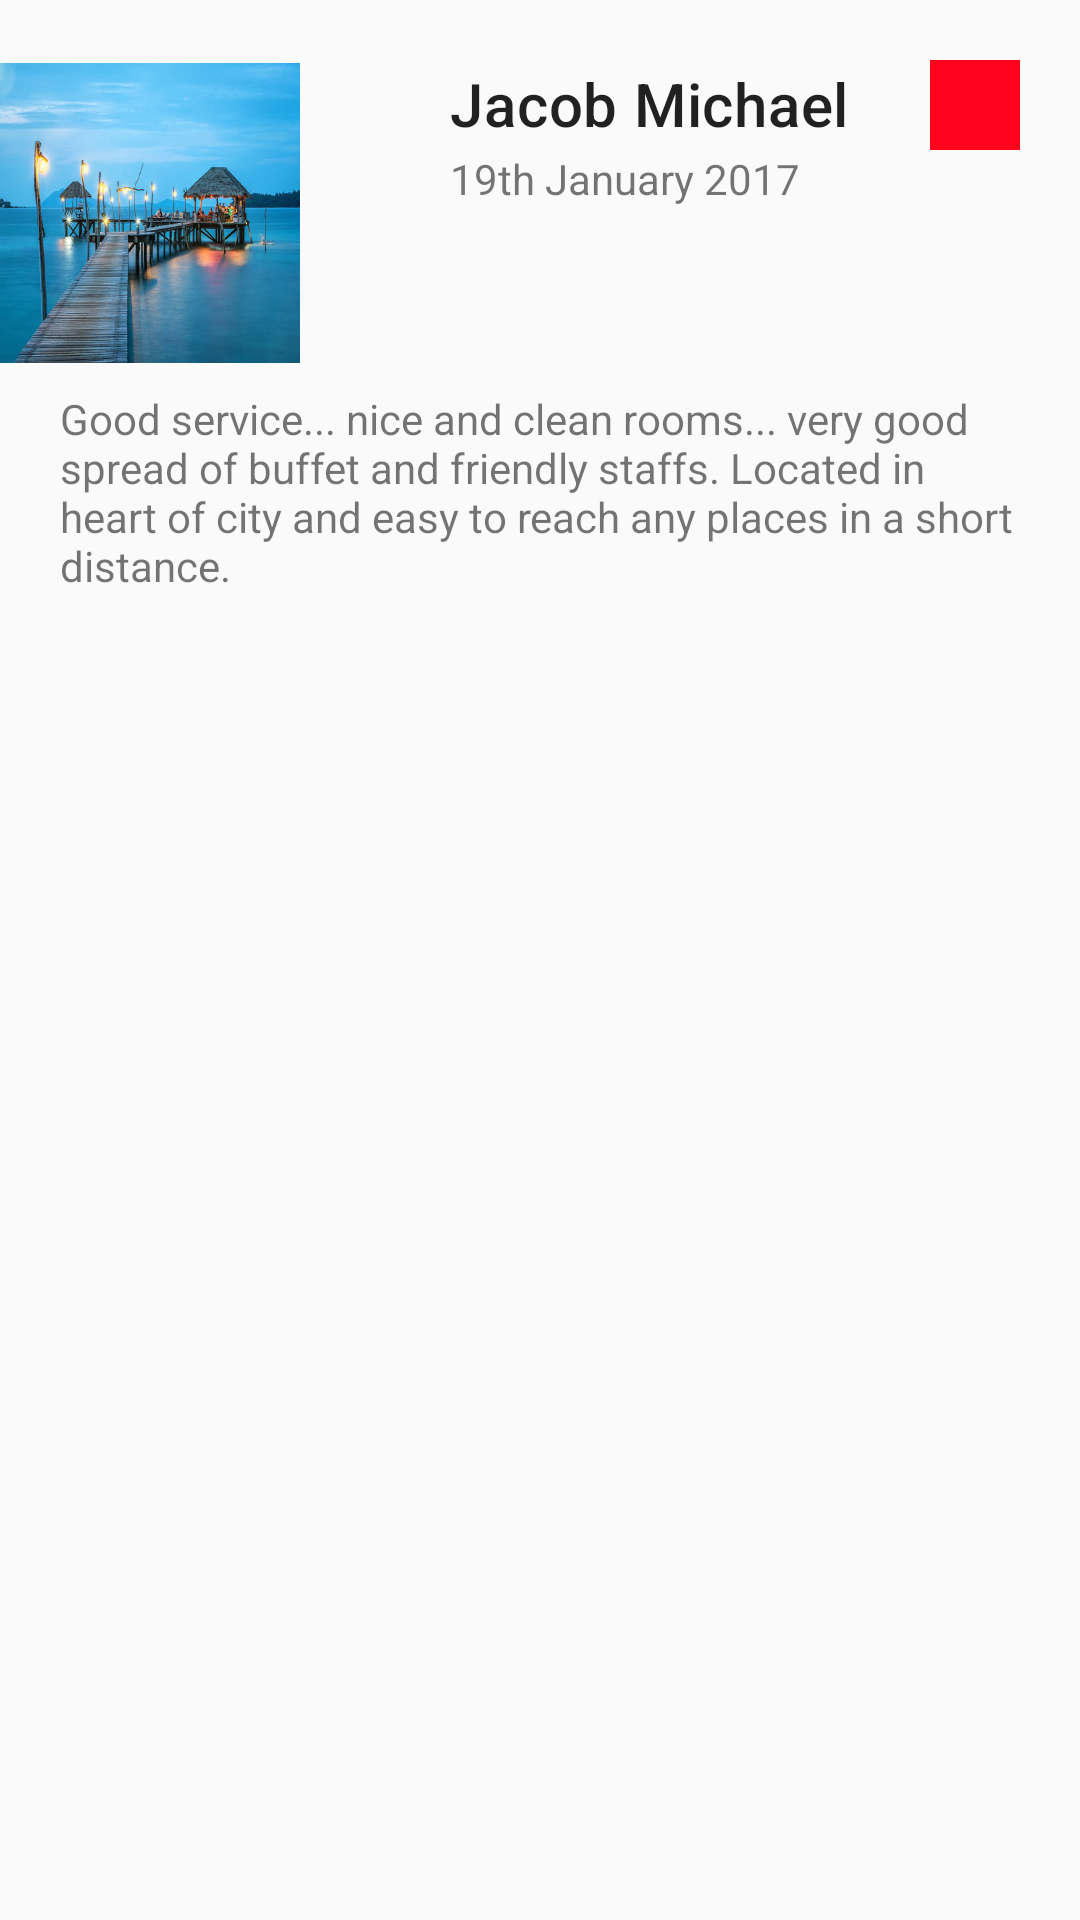

Named icons in this screenshot (1080px x 1920px) and their centers, point (x, y):
gallery: point (150, 213)
